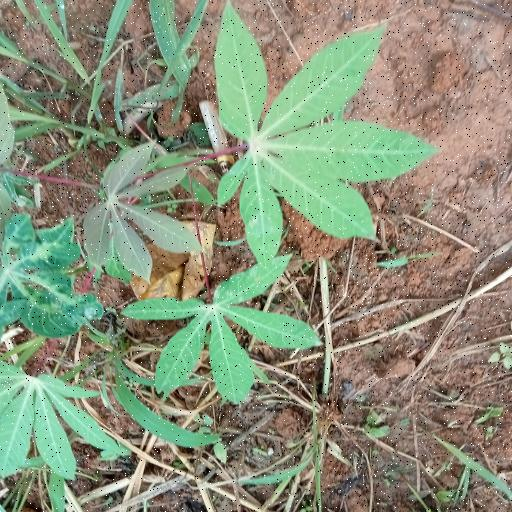Cassava_Mosaic: (217, 8, 423, 262), (124, 264, 314, 401), (88, 146, 196, 280), (2, 215, 96, 339), (0, 363, 95, 473)
